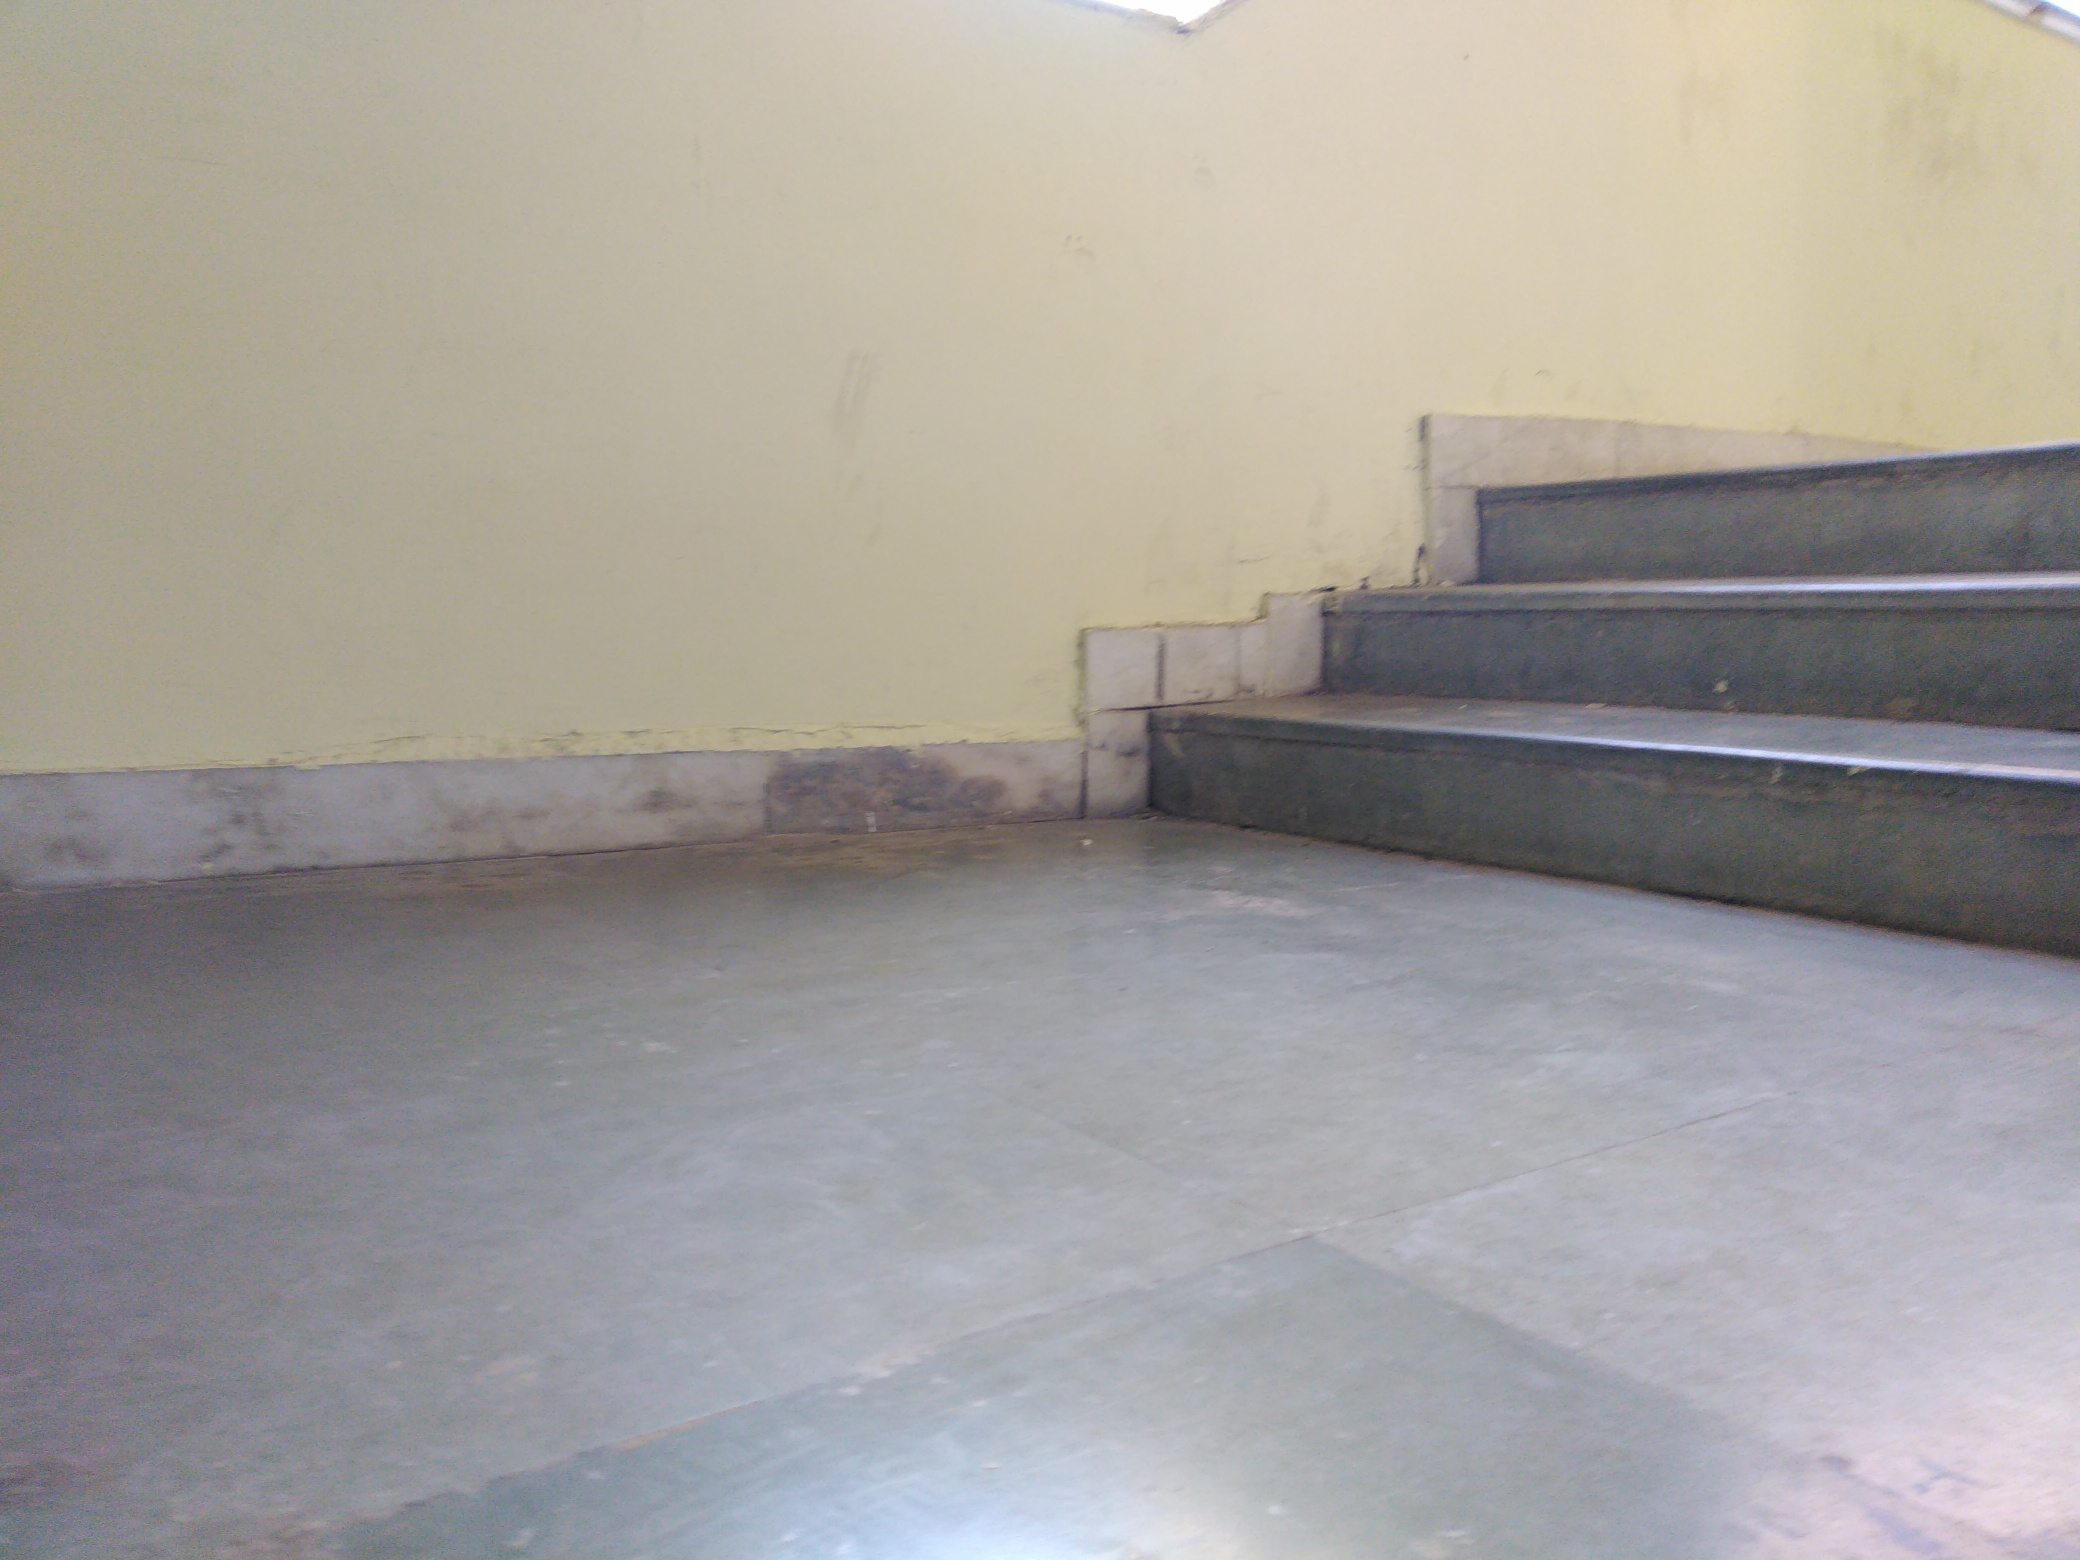stairs_up: (1151, 438, 2073, 836)
